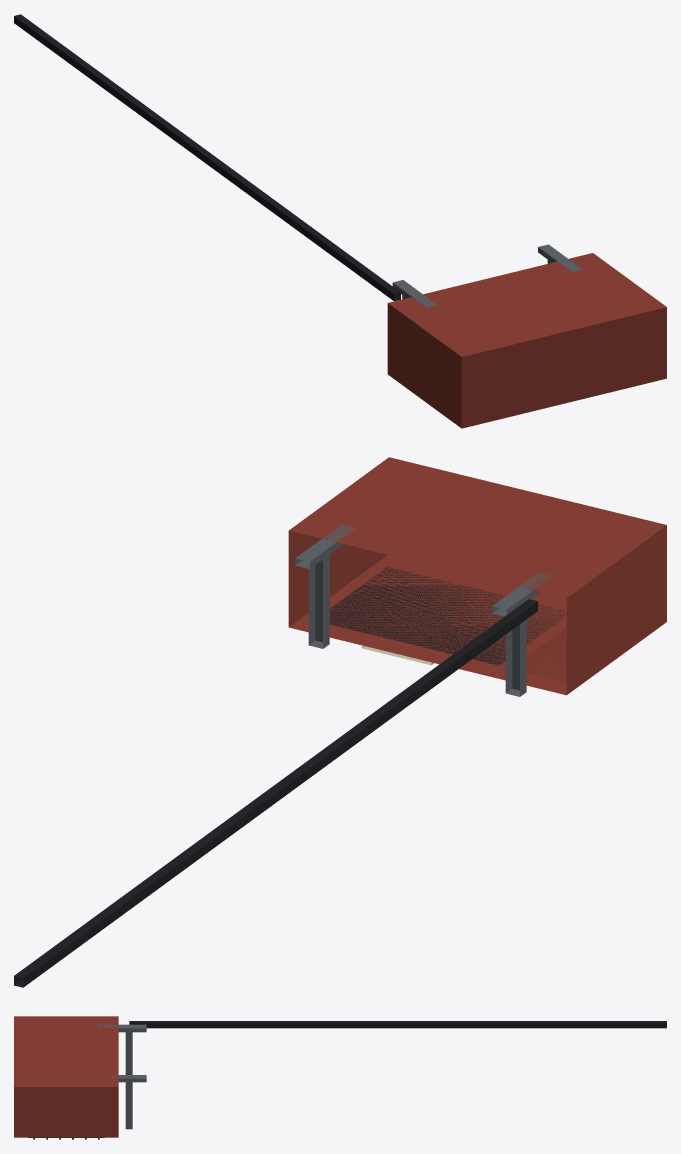
File: c_wheater.obj
The picture shows the model from 3 angles, top to bottom: view 1: azimuth 30°, elevation 25°; view 2: azimuth 150°, elevation 25°; view 3: azimuth 270°, elevation 25°; orthographic projection. The views are drawn at different scales.
Bounding box in the file's own units: 0.48 × 0.194 × 1.87.
Materials: 1 (1 with a texture image).
